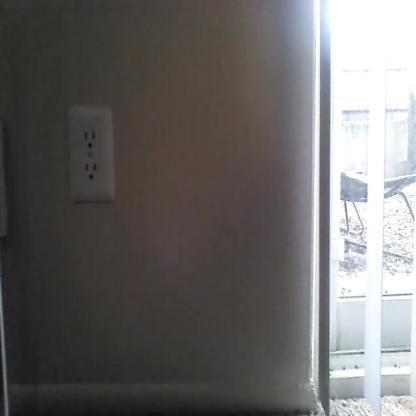OUTLET: (68, 106, 115, 202)
